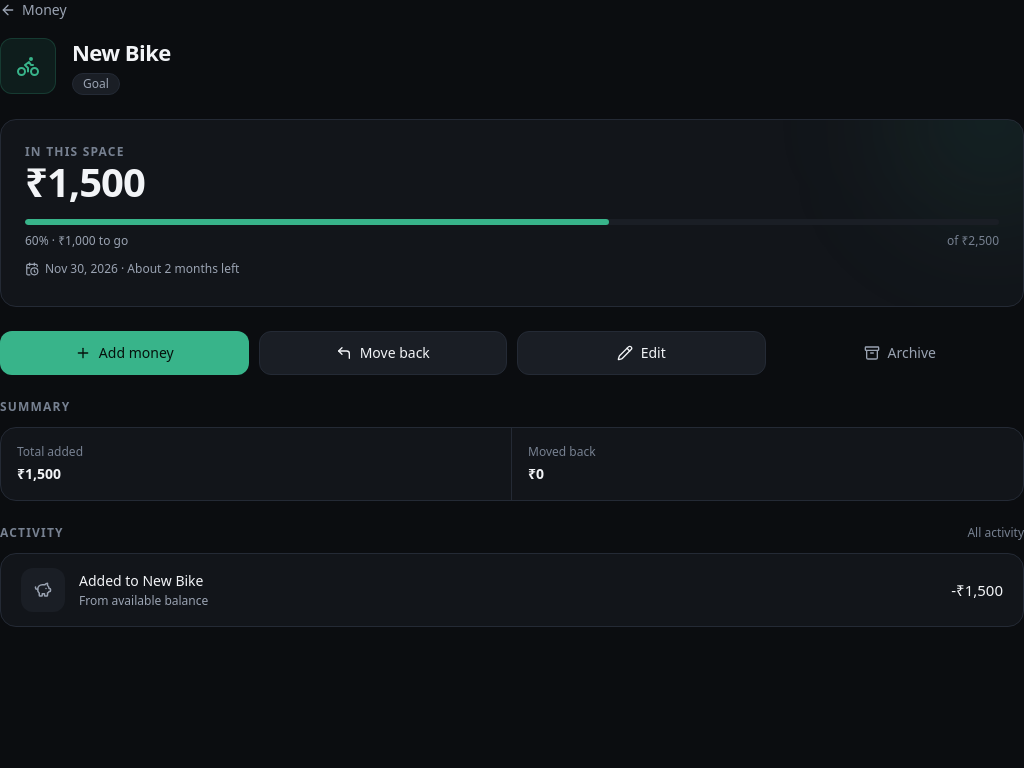
Space detail › archive: money moves back first, history stays, and the Space can't take money
The width and height of the screenshot is (1024, 768).
Click the button "Archive": point(900, 353) [776, 331, 1023, 375]
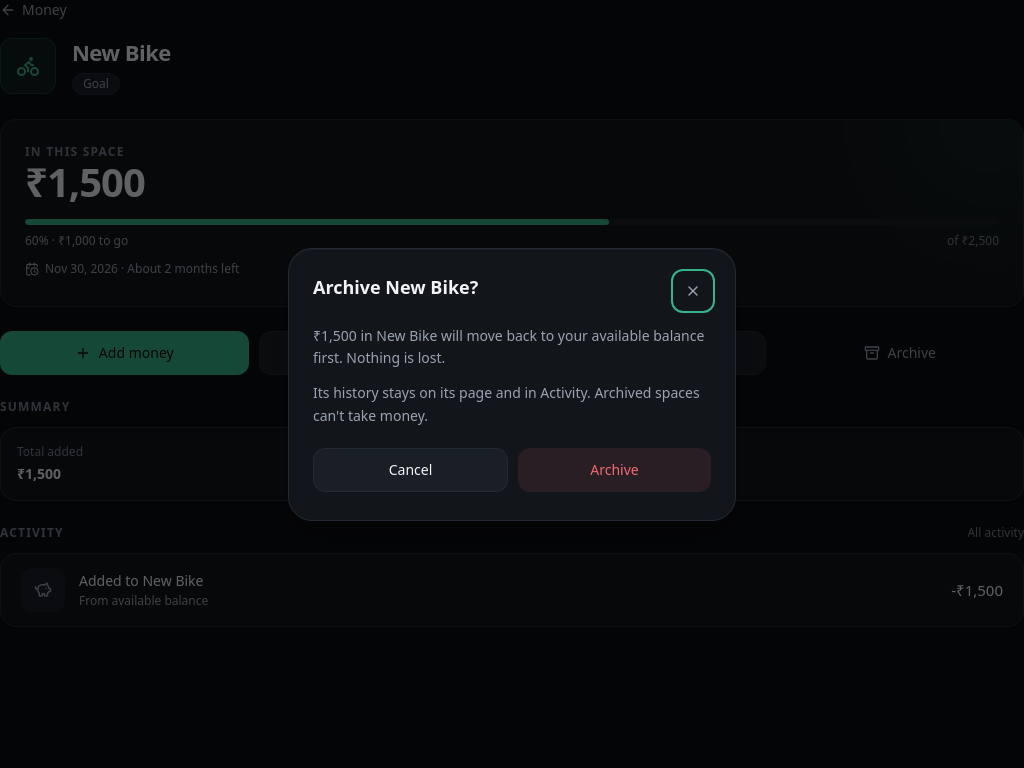
Check: the text "₹1,500" is shown, box [313, 326, 357, 344]
Double-click the button "Archive": point(614, 470) [518, 448, 711, 492]
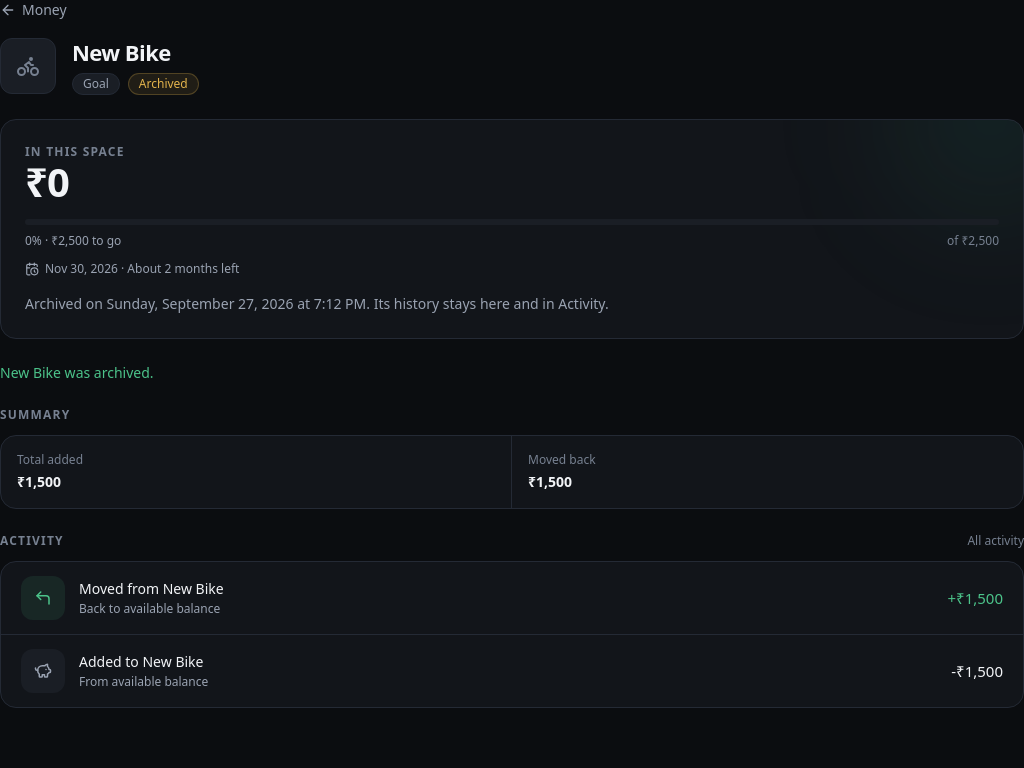
Check: the dialog is gone
Check: the text "Archived" is shown, box [128, 73, 199, 95]
Check: the button "Add money" is gone
